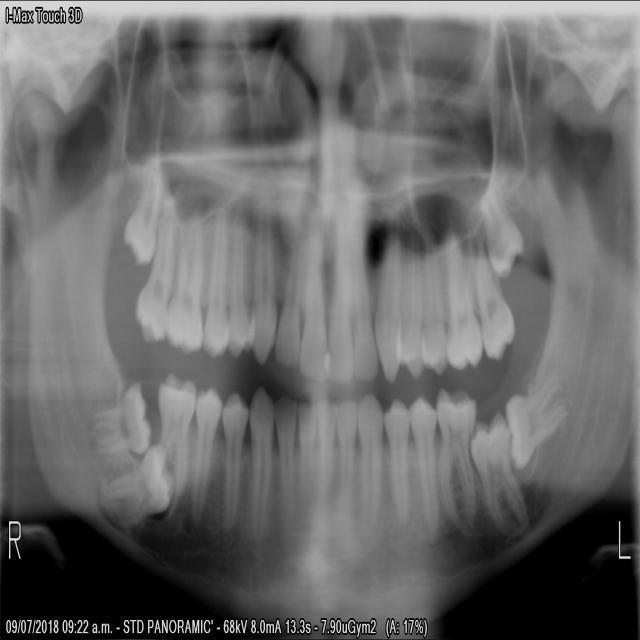LCD: (354, 384, 383, 545)
LCU: (370, 222, 401, 385)
LID: (331, 393, 355, 538), (315, 393, 337, 538)
LIU: (348, 206, 379, 385), (324, 212, 353, 387)
LMD: (466, 401, 530, 546), (503, 361, 569, 472), (431, 378, 477, 533)
LMU: (440, 221, 484, 375), (468, 231, 516, 366), (477, 171, 527, 283)
LPMD: (402, 387, 440, 543), (378, 390, 409, 533)
LPMU: (389, 215, 427, 384), (418, 219, 450, 380)
RCD: (246, 378, 276, 551)
RCU: (244, 161, 276, 374)
RID: (270, 386, 297, 549), (294, 394, 317, 541)
RIU: (270, 198, 305, 370), (296, 208, 329, 384)
RMD: (99, 438, 174, 533), (153, 363, 196, 503), (83, 377, 151, 464)
RMU: (159, 191, 206, 357), (132, 183, 178, 350), (119, 155, 163, 270)
RPMD: (188, 379, 222, 527), (217, 383, 250, 529)
RPMU: (220, 180, 255, 363), (198, 195, 230, 363)
